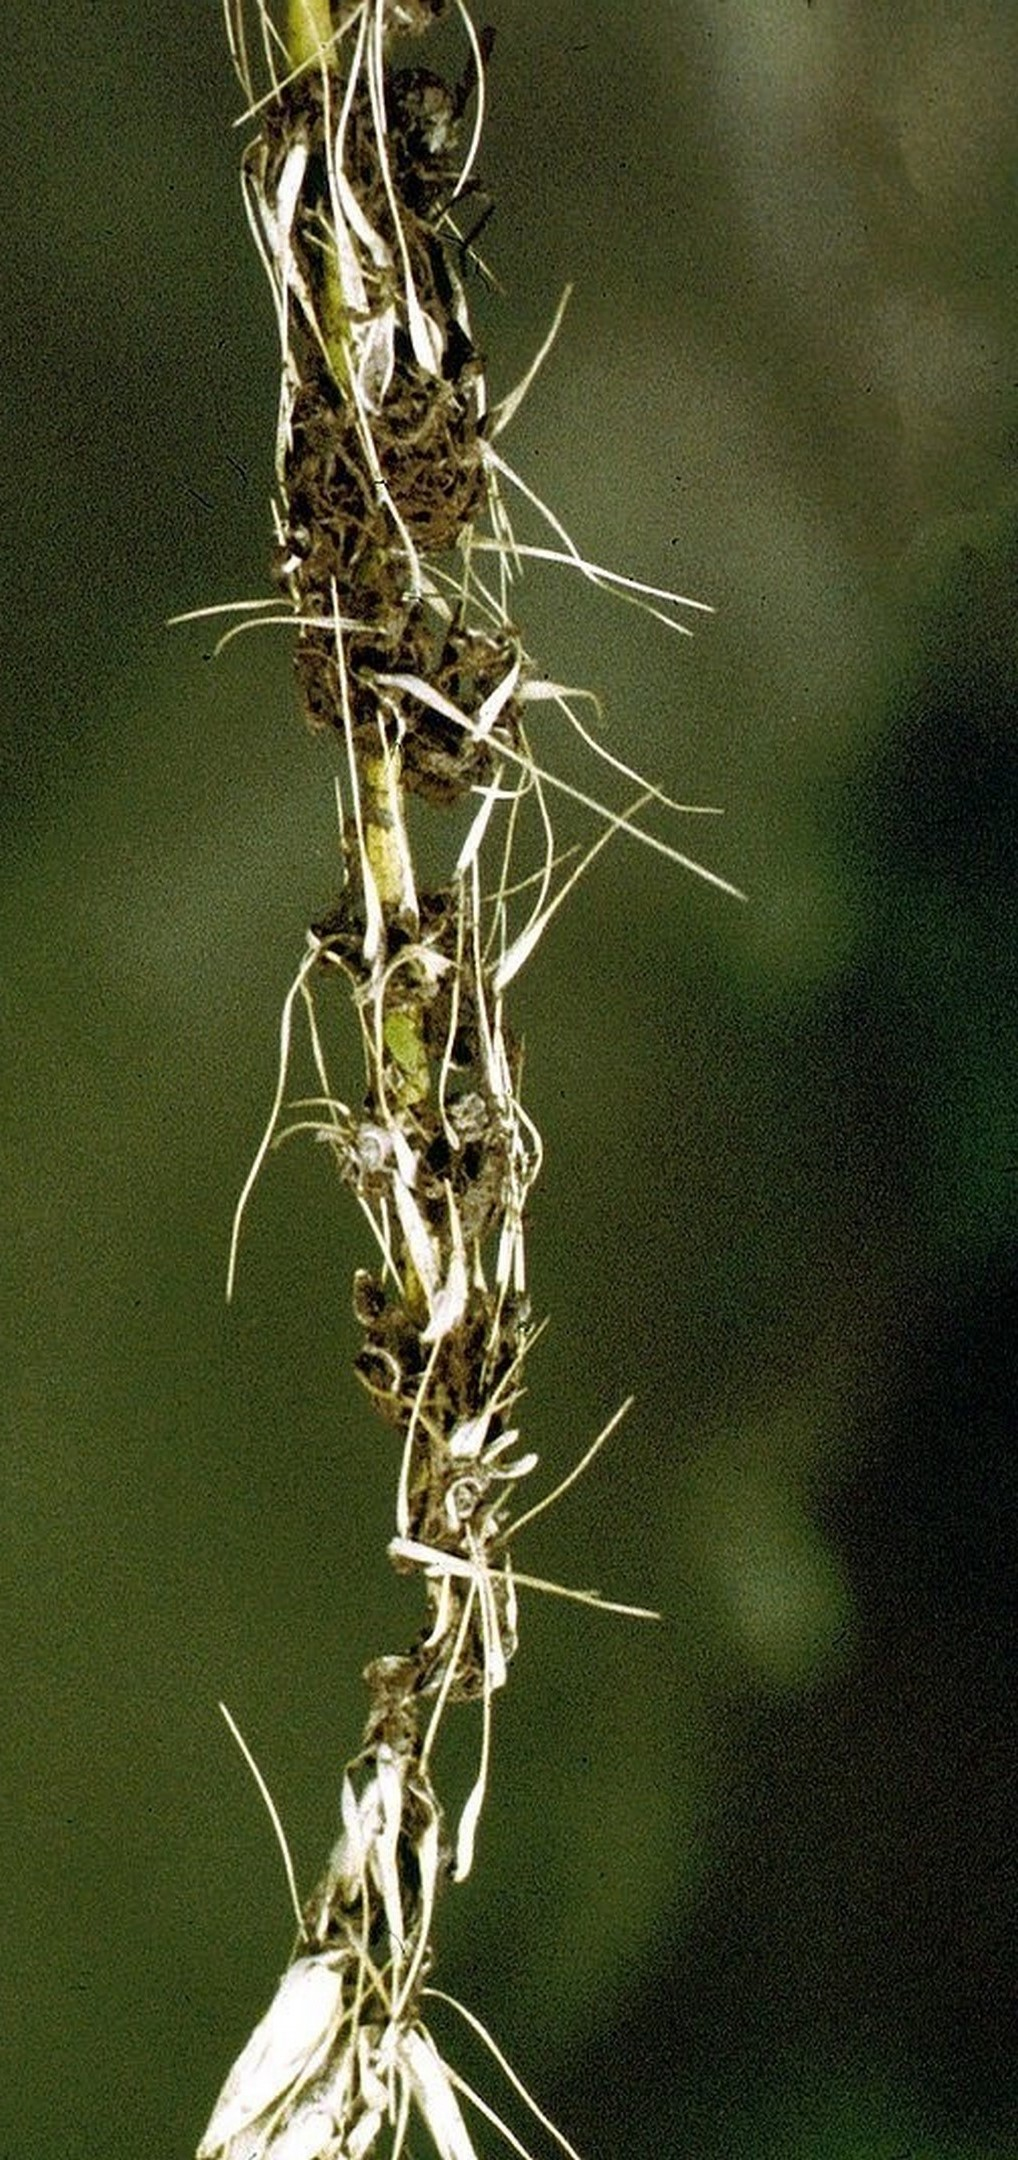Wheat Loose Smut: (141, 114, 675, 2160)
